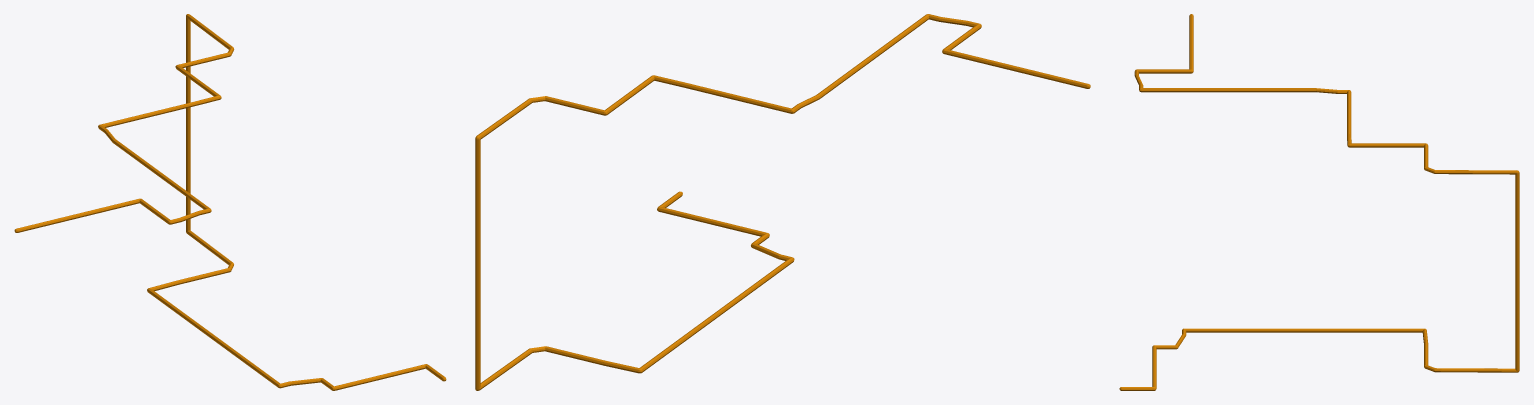
3 views of the same model, side by side, from view 1: azimuth 30°, elevation 25°; view 2: azimuth 150°, elevation 25°; view 3: azimuth 270°, elevation 25° (orthographic). The views are drawn at different scales.
Bounding box in the file's own units: 1911 × 1020 × 1830.
